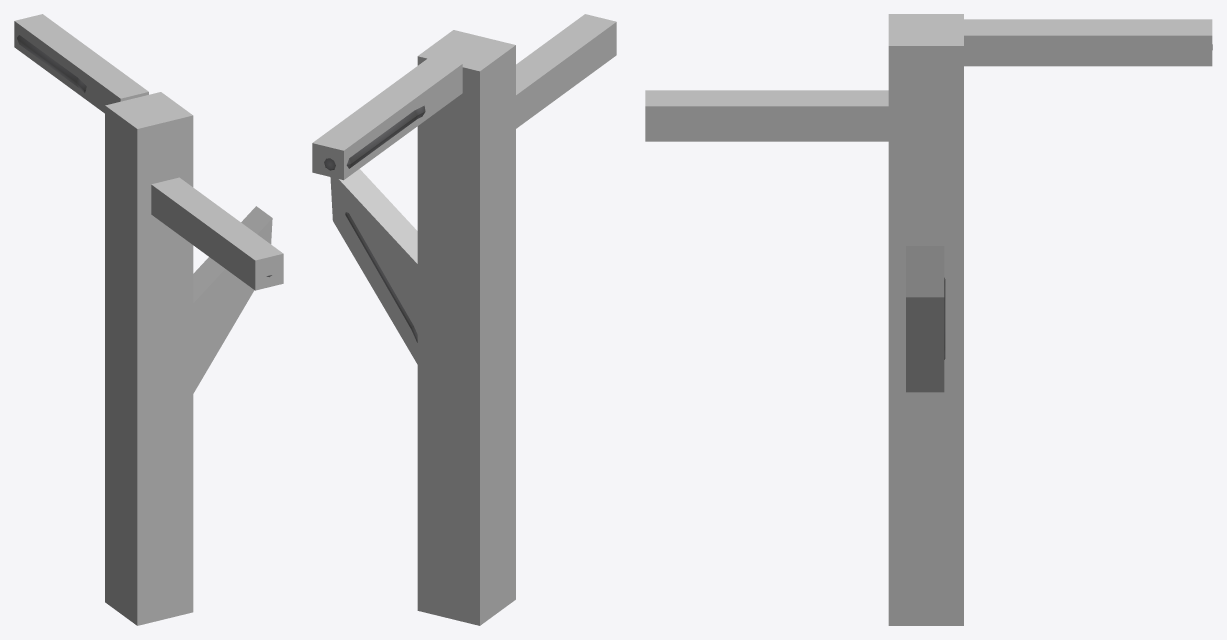
Rendered from SM_RoadLamp_03.fbx.
3 renders of one model, left to right at view 1: azimuth 30°, elevation 25°; view 2: azimuth 150°, elevation 25°; view 3: azimuth 270°, elevation 25°, orthographic. The views are drawn at different scales.
Parts seen in each view (by area): view 1: SM_RoadLamp_03_ConvexHulls, SM_RoadLamp_03; view 2: SM_RoadLamp_03_ConvexHulls, SM_RoadLamp_03; view 3: SM_RoadLamp_03_ConvexHulls.
Part boxes in pixels (left/top/right/bottom): SM_RoadLamp_03_ConvexHulls: left=14, top=14, right=283, bottom=625; SM_RoadLamp_03: left=17, top=35, right=271, bottom=276; SM_RoadLamp_03_ConvexHulls: left=312, top=14, right=616, bottom=625; SM_RoadLamp_03: left=324, top=105, right=425, bottom=342; SM_RoadLamp_03_ConvexHulls: left=645, top=14, right=1212, bottom=625.
Bounding box in the file's own units: 114 × 336 × 382.
Materials: 2 (1 with a texture image).
